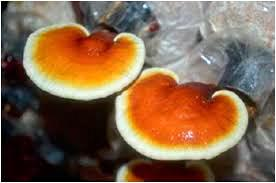Ganoderma - Fruit Body: (147, 67, 252, 158), (22, 22, 146, 99), (119, 160, 217, 183)
